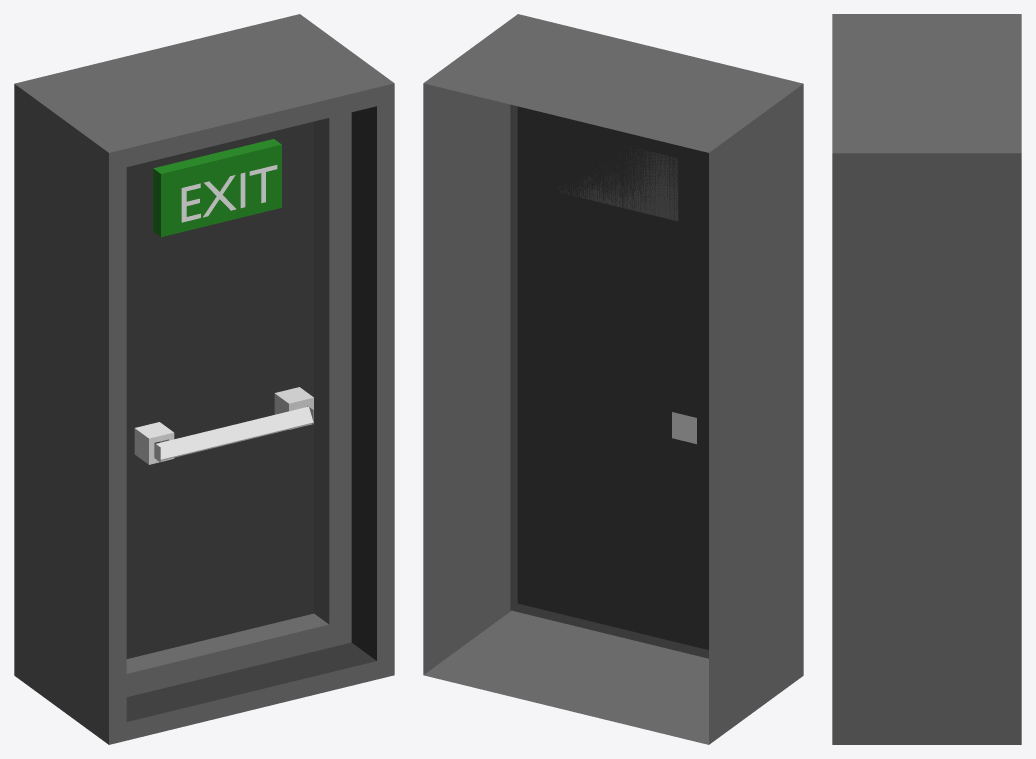
File: exitdoor.fbx
The picture shows the model from 3 angles, left to right: view 1: azimuth 30°, elevation 25°; view 2: azimuth 150°, elevation 25°; view 3: azimuth 270°, elevation 25°; orthographic projection.
Parts seen in each view (by area): view 1: Cube, Plane, Cube.004, Text, Cube.001, Cube.002; view 2: Cube, Plane, Cube.001; view 3: Cube.
Part boxes in pixels (x1,y1,x2,y2): Cube: [14, 14, 394, 744]; Plane: [153, 139, 281, 237]; Cube.004: [156, 406, 313, 461]; Text: [181, 165, 277, 222]; Cube.001: [134, 422, 174, 464]; Cube.002: [274, 387, 313, 429]; Cube: [423, 14, 803, 744]; Plane: [559, 147, 678, 221]; Cube.001: [672, 412, 696, 444]; Cube: [832, 14, 1021, 744].
Size of the model in its own units: 374 by 742 by 215.
